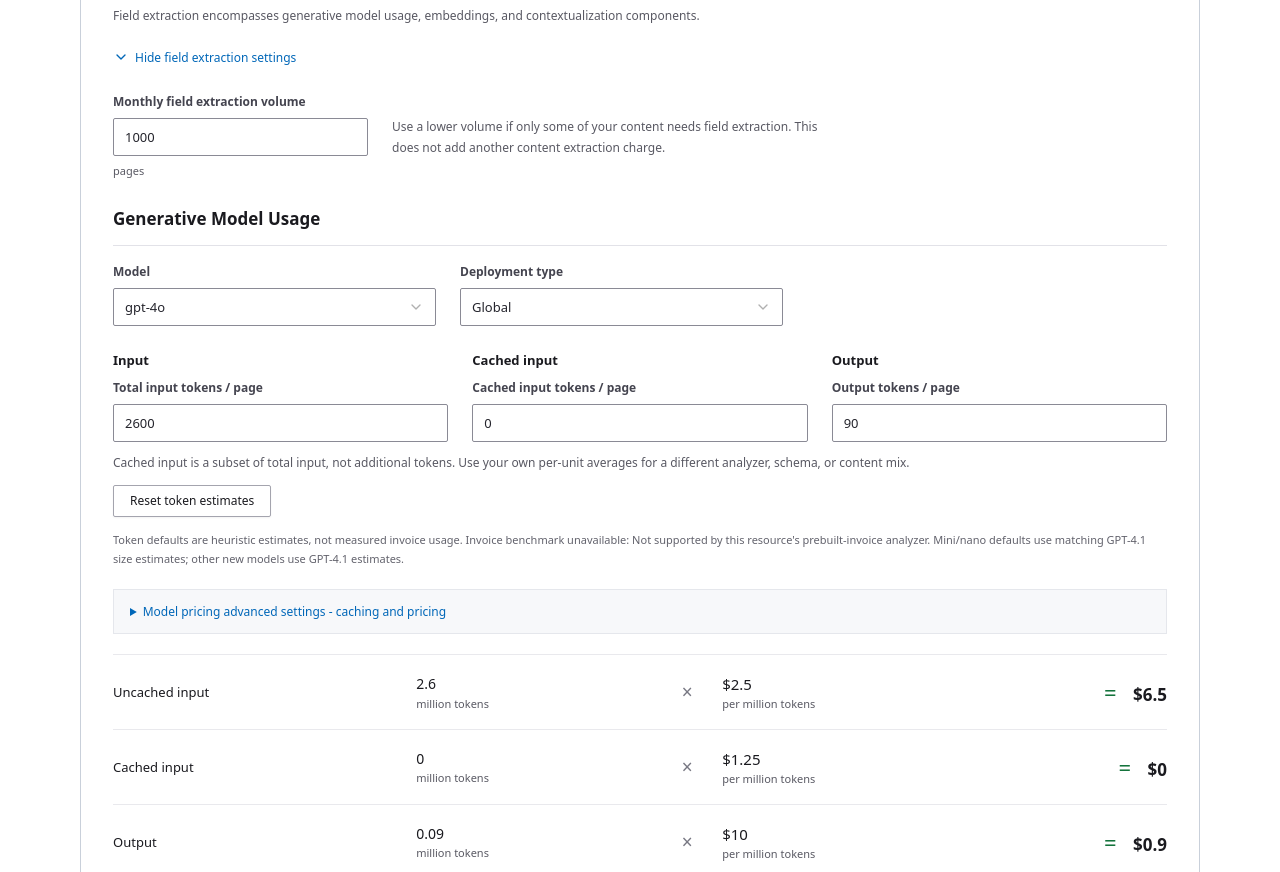
Pricing calculator UI › shows public prices and updates totals for cached input without double billing
(page scrolled)
Step 1. Replace the text in the number field labelled "Cached input tokens / page" with "1000" → x=640, y=422, box 472,404 -> 808,442
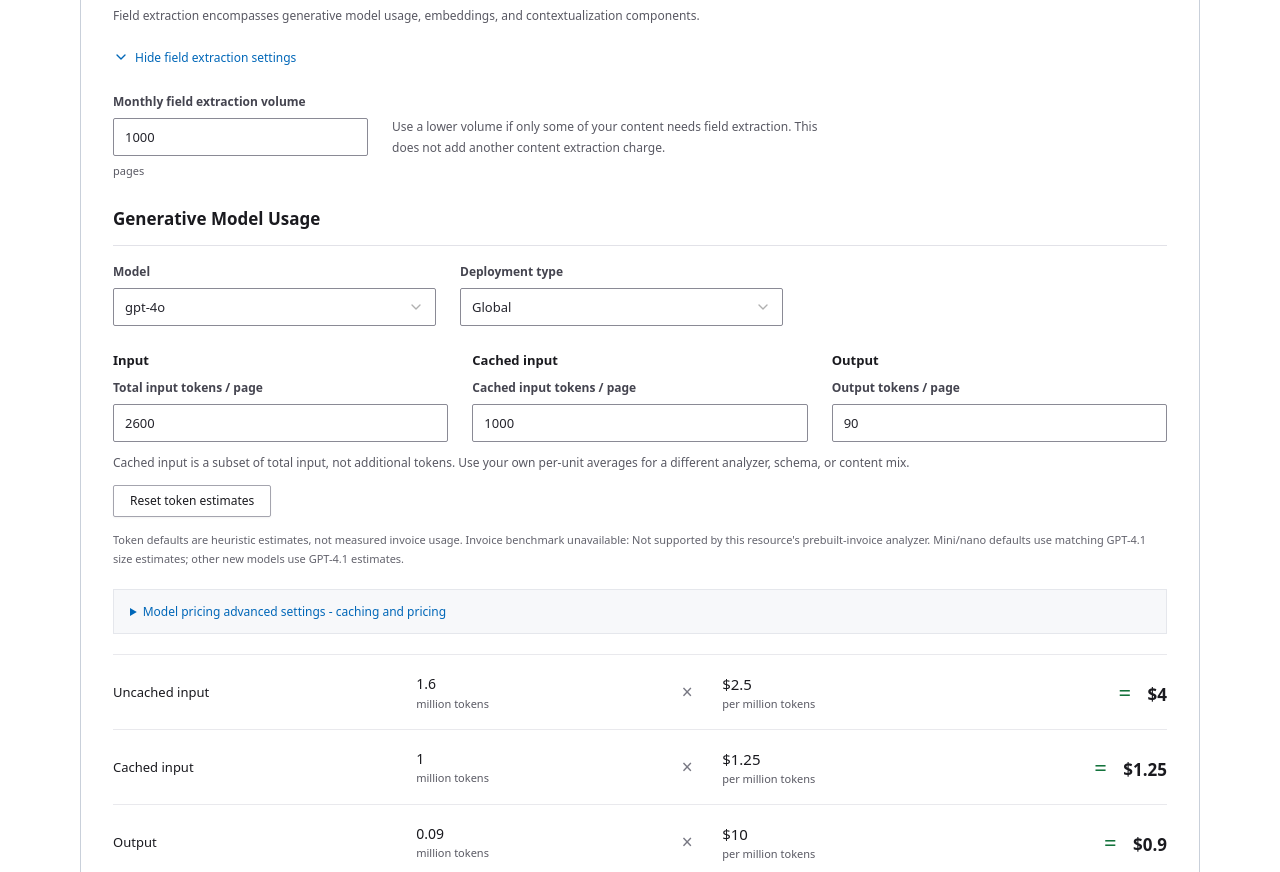
Step 2. Replace the text in the number field named "Cached input ($ / million tokens)" with "1" → x=640, y=612, box 113,589 -> 1167,634
(page scrolled)
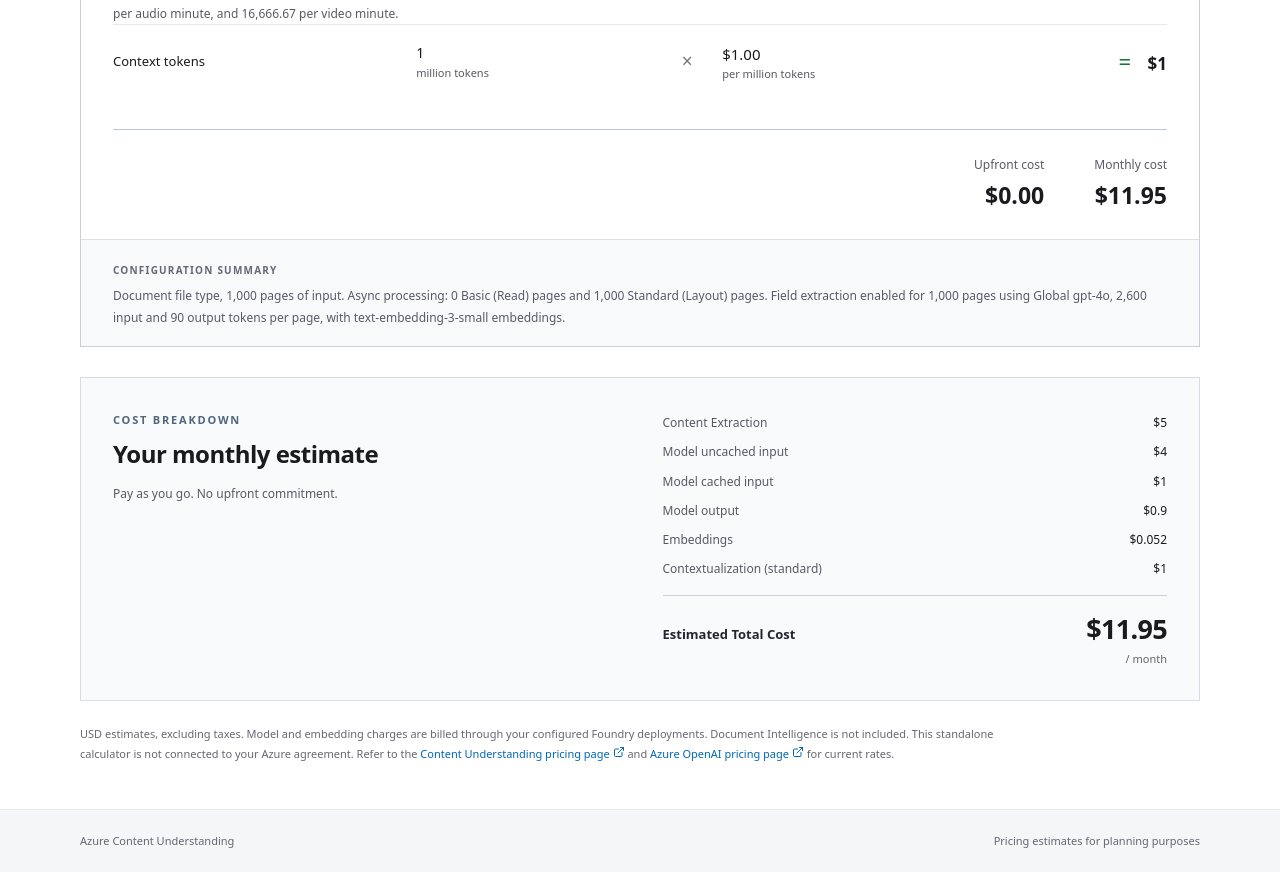
Expected: the text "$11.95" is shown, 1086,610 -> 1167,647
